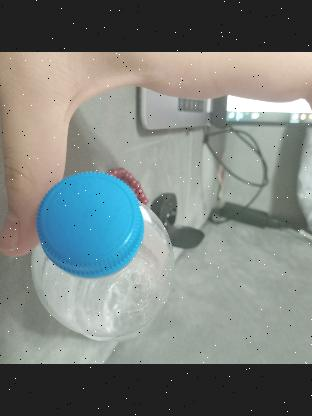Plastic Bottle: (30, 157, 176, 346)
